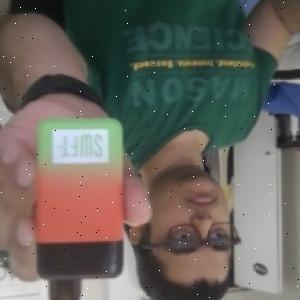Swift-E-Ciggirate: (29, 114, 128, 300)
